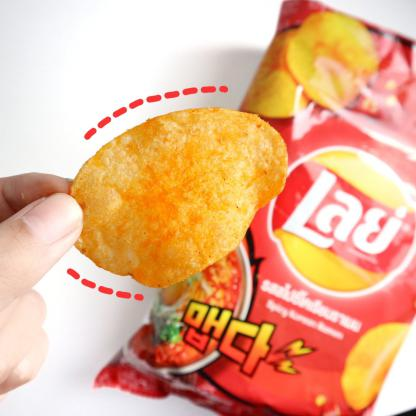potatochip: (90, 0, 416, 416)
